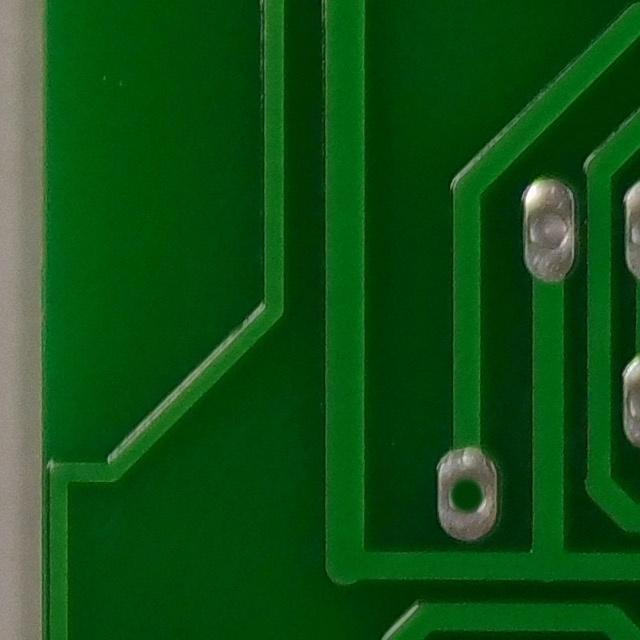missing_hole: (425, 457, 512, 536)
